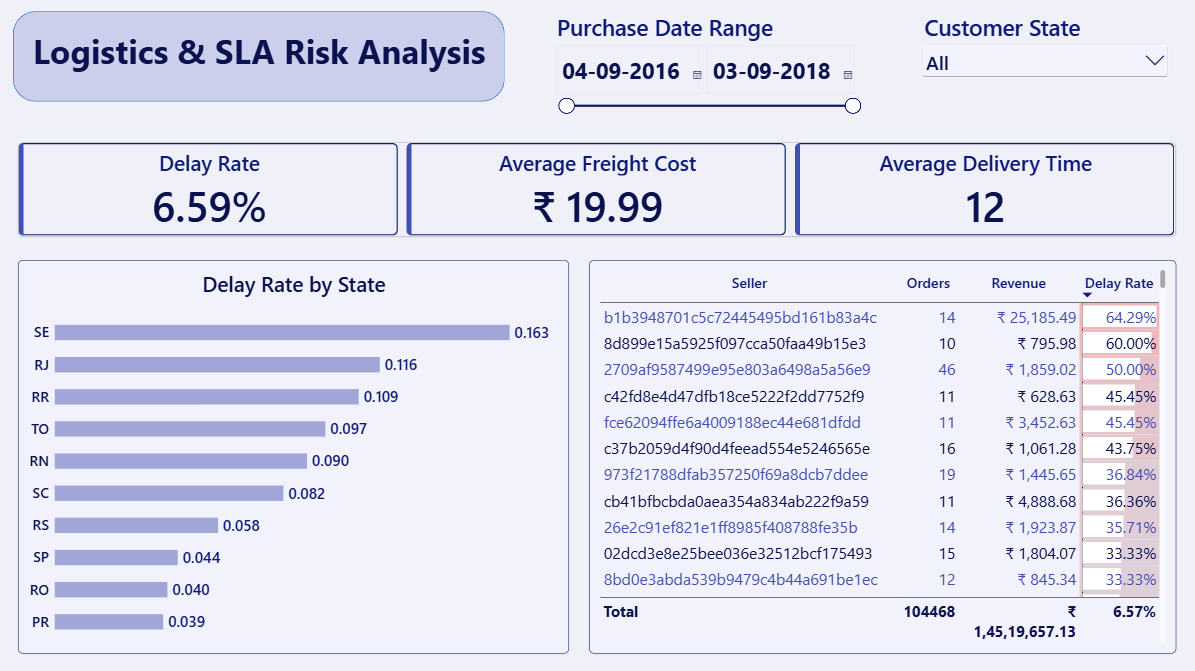

The page's visual inventory and layout, read from the dashboard file:
{"tool":"powerbi","page":{"name":"Logistics & SLA Risk Analysis","canvas":[1920,1080],"ordinal":1},"visuals":[{"type":"shape","box":[24.4,17.8,786.7,144.4],"z":0},{"type":"textbox","box":[56.1,43.4,756.4,94.1],"z":1000},{"type":"slicer","title":"Average Order Price","fields":{"Values":["ecommerce_db fact_orders.order_purchase_timestamp"]},"box":[886.7,18.1,497.7,222.6],"z":2000},{"type":"slicer","fields":{"Values":["ecommerce_db dim_customers.customer_state"]},"box":[1473.1,18.1,403.6,150.2],"z":3000},{"type":"cardVisual","fields":{"Data":["_Measures.Delay Rate","_Measures.Average Freight Cost","_Measures.Average Delivery Time","_Measures.Total Orders"]},"box":[32.6,228,1853.1,150.2],"z":4000},{"type":"clusteredBarChart","title":"Delay Rate by State","fields":{"Category":["ecommerce_db dim_customers.customer_state"],"Y":["_Measures.Delay Rate"]},"box":[32.6,416.2,881.3,629.8],"z":5000},{"type":"tableEx","fields":{"Values":["ecommerce_db dim_sellers.seller_id","_Measures.Total Revenue","_Measures.Total Orders"]},"box":[946.5,416.2,939.2,629.8],"z":6000}]}

Visuals, with their boxes in screenshot pixels (x1, y1, x2, y2), scaled from the page's 1920x1080 canvas onto the 1195x671 screenshot:
shape: 15, 11, 505, 101
textbox: 35, 27, 506, 85
"Average Order Price" slicer: 552, 11, 862, 150
slicer - ecommerce_db dim_customers.customer_state: 917, 11, 1168, 105
cardVisual - _Measures.Delay Rate x _Measures.Average Freight Cost: 20, 142, 1174, 235
"Delay Rate by State" clusteredBarChart: 20, 259, 569, 650
tableEx - ecommerce_db dim_sellers.seller_id x _Measures.Total Revenue: 589, 259, 1174, 650
